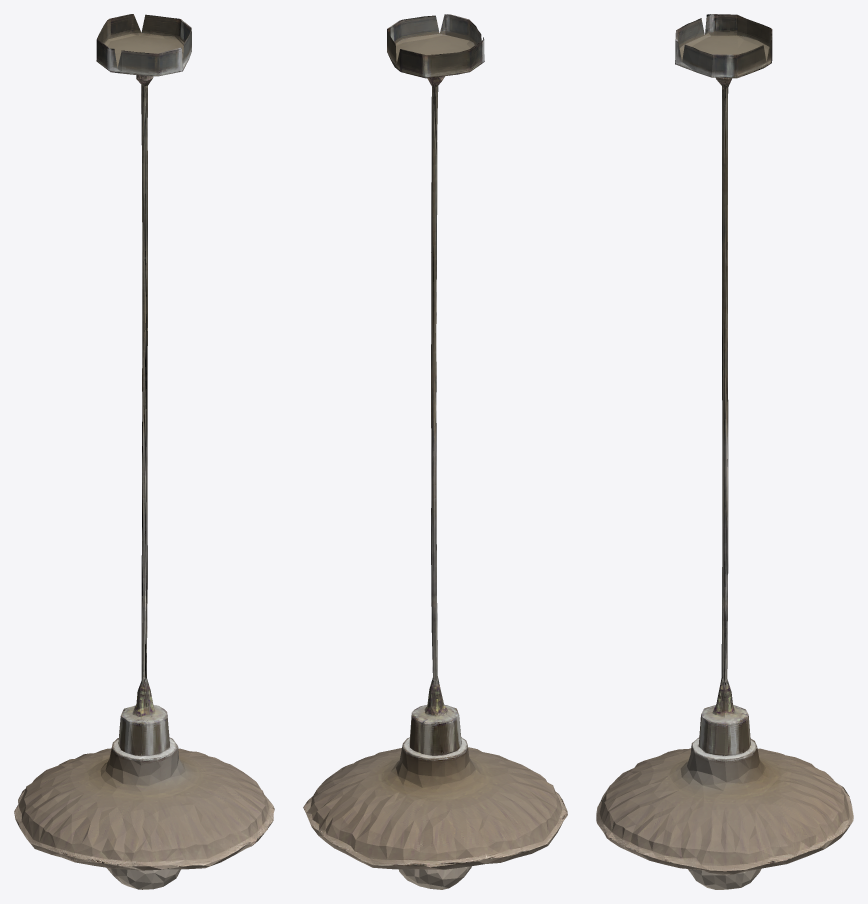
3 views of the same model, side by side, from view 1: azimuth 30°, elevation 25°; view 2: azimuth 150°, elevation 25°; view 3: azimuth 270°, elevation 25° (orthographic).
Parts seen in each view (by area): view 1: world; view 2: world; view 3: world.
Boxes of the visible parts, box(x1,y1,x2,y2) form: world: box(14, 14, 274, 889); world: box(303, 14, 567, 889); world: box(596, 14, 853, 889).
Bounding box in the file's own units: 0.2764 × 1 × 0.2737.
1 material, 1 textured.
